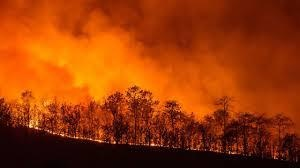fire: (26, 120, 38, 130)
